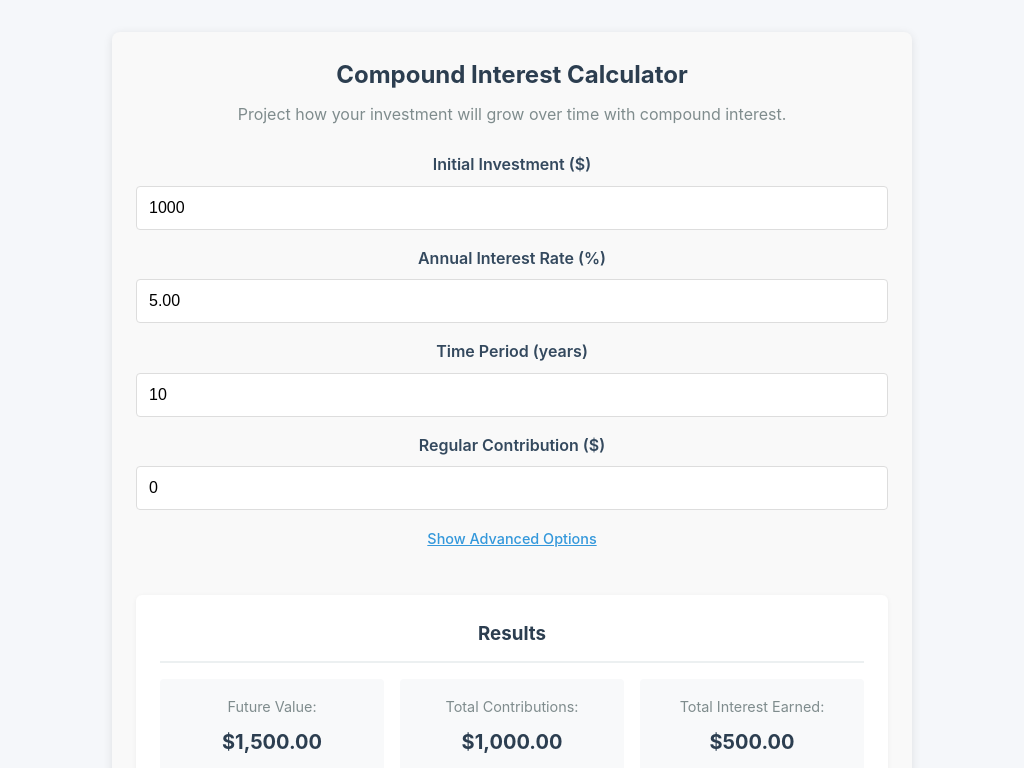
Test: CompoundInterestCalculator › toggles advanced options when clicked
The width and height of the screenshot is (1024, 768).
Note: Click the toggle button
Click the button "Show Advanced Options": point(512, 539) 427,530 -> 597,547
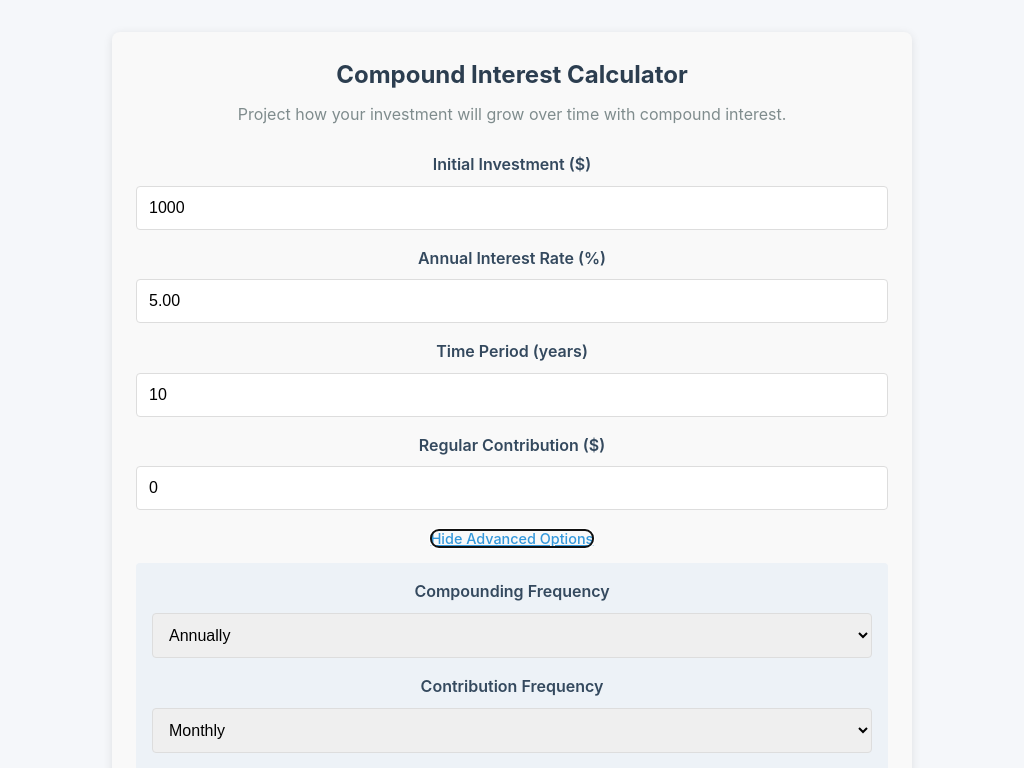
Result: the dropdown with test id "compounding-frequency-select" is shown at 152,613 -> 872,658
Result: the dropdown with test id "contribution-frequency-select" is shown at 152,708 -> 872,752
Note: Click the toggle button again
Click the button "Hide Advanced Options": point(512, 539) 431,530 -> 593,547
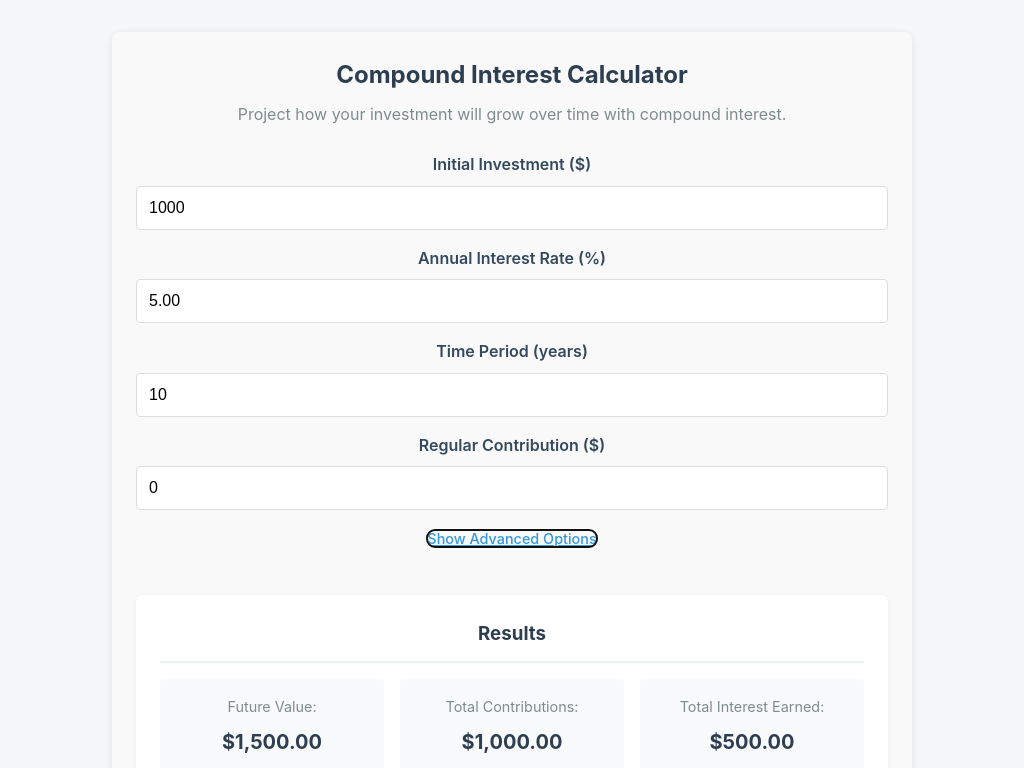
Result: the dropdown with test id "compounding-frequency-select" is gone
